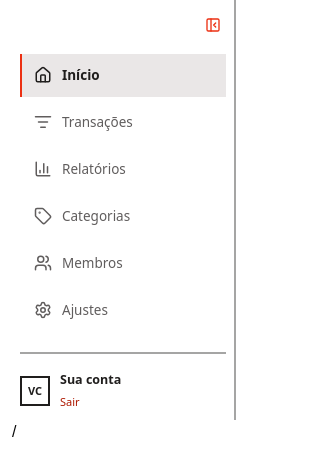
DesktopSidebar › colapsar oculta rótulos mas mantém todos os itens acessíveis
The width and height of the screenshot is (332, 454).
Click the button named "colapsar menu". click: point(213, 25)
box: [200, 8, 226, 42]
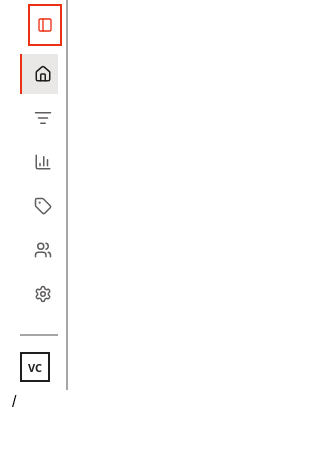
Expected: the link titled "Transações" is shown, [34, 109, 52, 127]
Now the text "Transações" is gone
